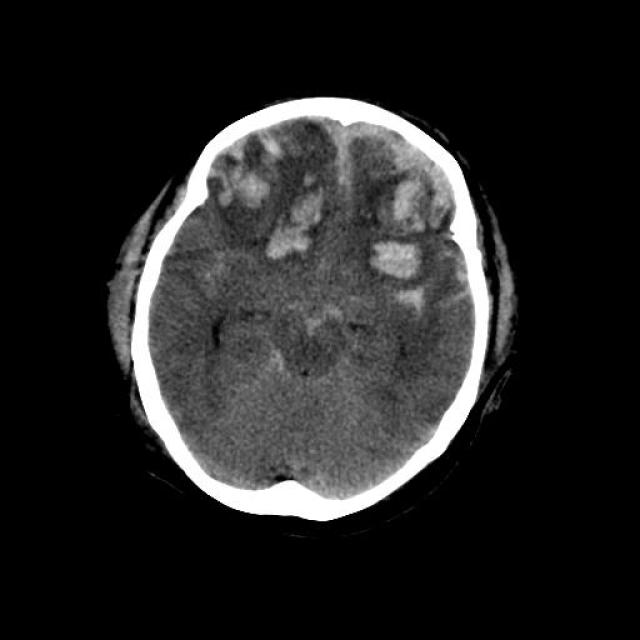Intraparenchymal: (357, 236, 455, 332), (205, 128, 291, 212), (266, 178, 342, 268), (358, 166, 438, 238)
Subarachnoid: (439, 248, 501, 346)
Subdural: (315, 98, 479, 230)
